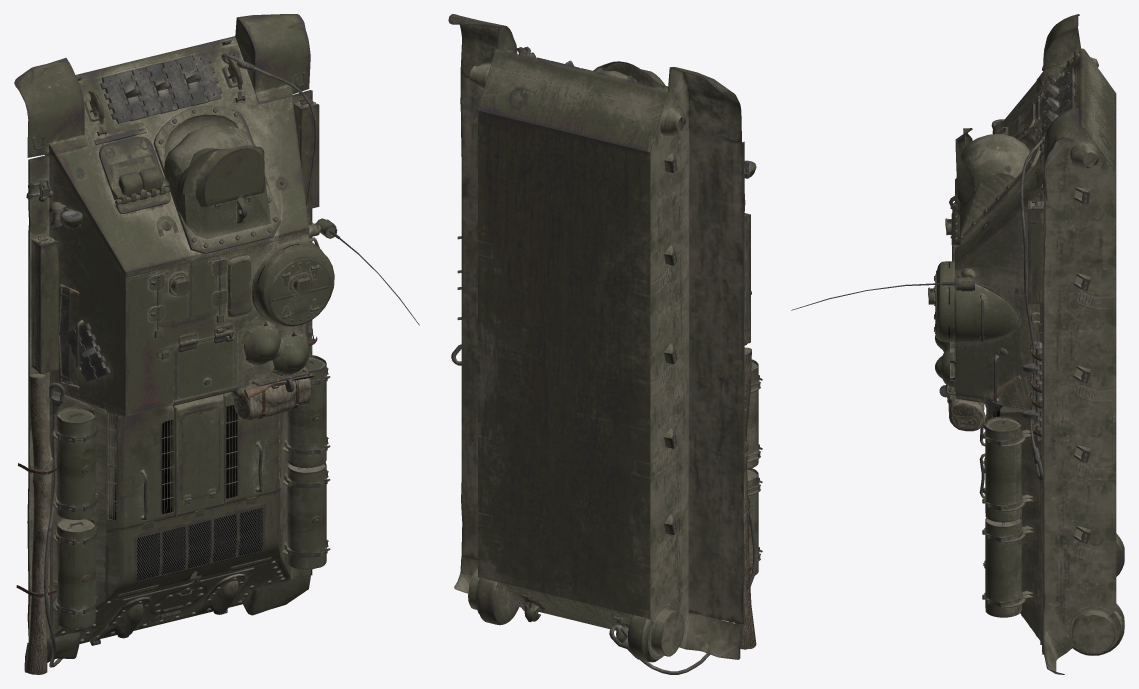
Rendered from Hull.glb.
3 renders of one model, left to right at view 1: azimuth 30°, elevation 25°; view 2: azimuth 150°, elevation 25°; view 3: azimuth 270°, elevation 25°, orthographic. The views are drawn at different scales.
Visible parts, largest first — view 1: set_0_group_0; view 2: set_0_group_0; view 3: set_0_group_0.
Boxes of the visible parts, box(x1,y1,x2,y2) form: set_0_group_0: box(14, 14, 419, 674); set_0_group_0: box(448, 14, 762, 674); set_0_group_0: box(791, 14, 1124, 674).
Size of the model in its own units: 3.21 by 6.19 by 3.3.
Materials: 1 (1 with a texture image).
